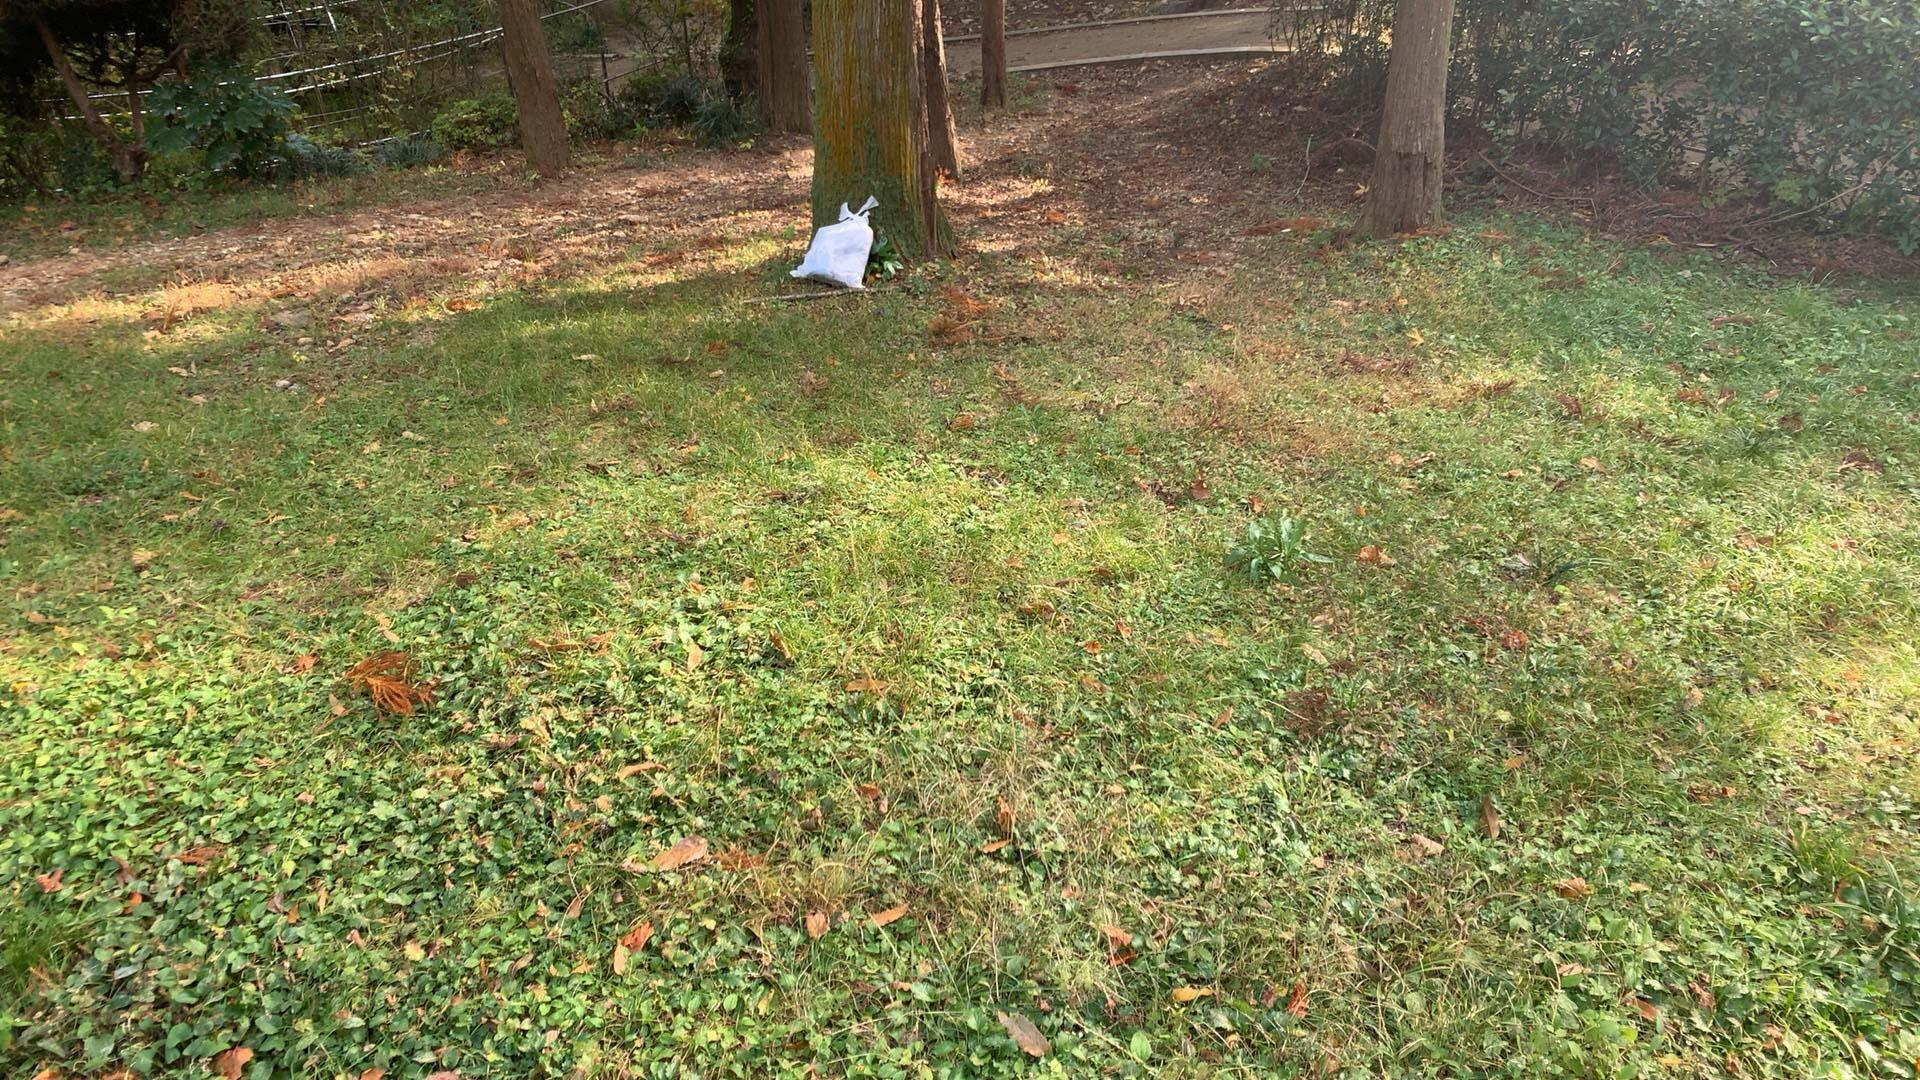white_bag: (787, 189, 882, 297)
